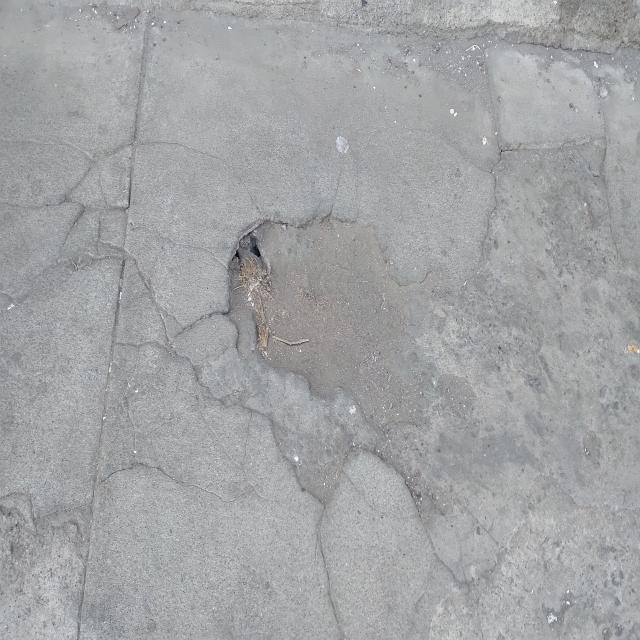hole: (224, 208, 403, 410)
